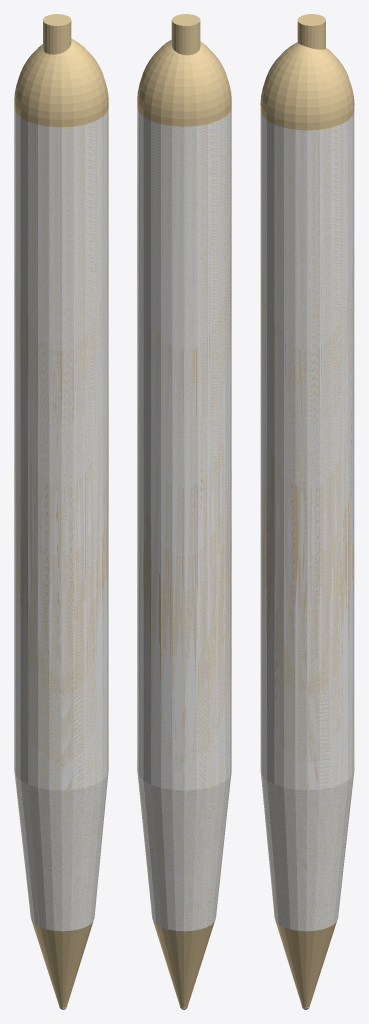
3 renders of one model, left to right at view 1: azimuth 90°, elevation 25°; view 2: azimuth 150°, elevation 25°; view 3: azimuth 270°, elevation 25°, orthographic.
Parts seen in each view (by area): view 1: pen; view 2: pen; view 3: pen.
Boxes of the visible parts, <box> form: pen: <box>14,14,108,1009</box>; pen: <box>137,14,231,1009</box>; pen: <box>260,14,354,1009</box>.
Size of the model in its own units: 39.78 by 461 by 39.78.
